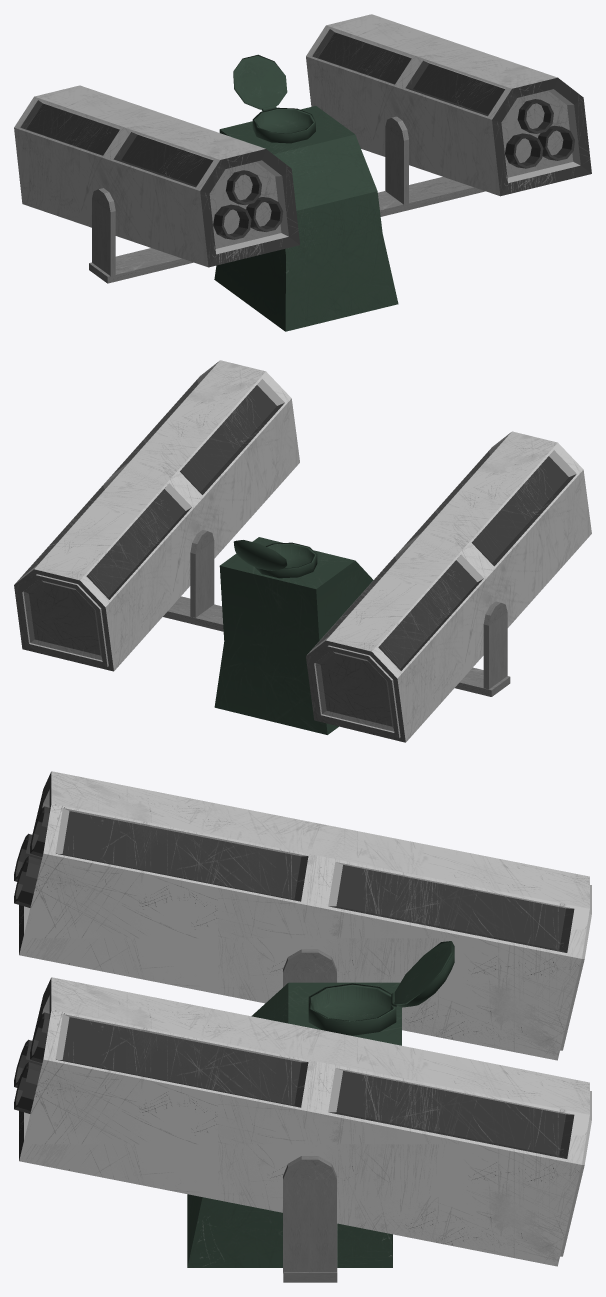
The model's file is MissileRT3.fbx.
3 views of the same model, one above another, from view 1: azimuth 30°, elevation 25°; view 2: azimuth 150°, elevation 25°; view 3: azimuth 270°, elevation 25° (orthographic). The views are drawn at different scales.
Visible parts, largest first — view 1: pCylinder94; view 2: pCylinder94; view 3: pCylinder94.
Part boxes in pixels (x1,y1,x2,y2): pCylinder94: (14, 14, 591, 331); pCylinder94: (14, 360, 591, 742); pCylinder94: (14, 771, 591, 1282).
Size of the model in its own units: 36.63 by 20.44 by 31.69.
